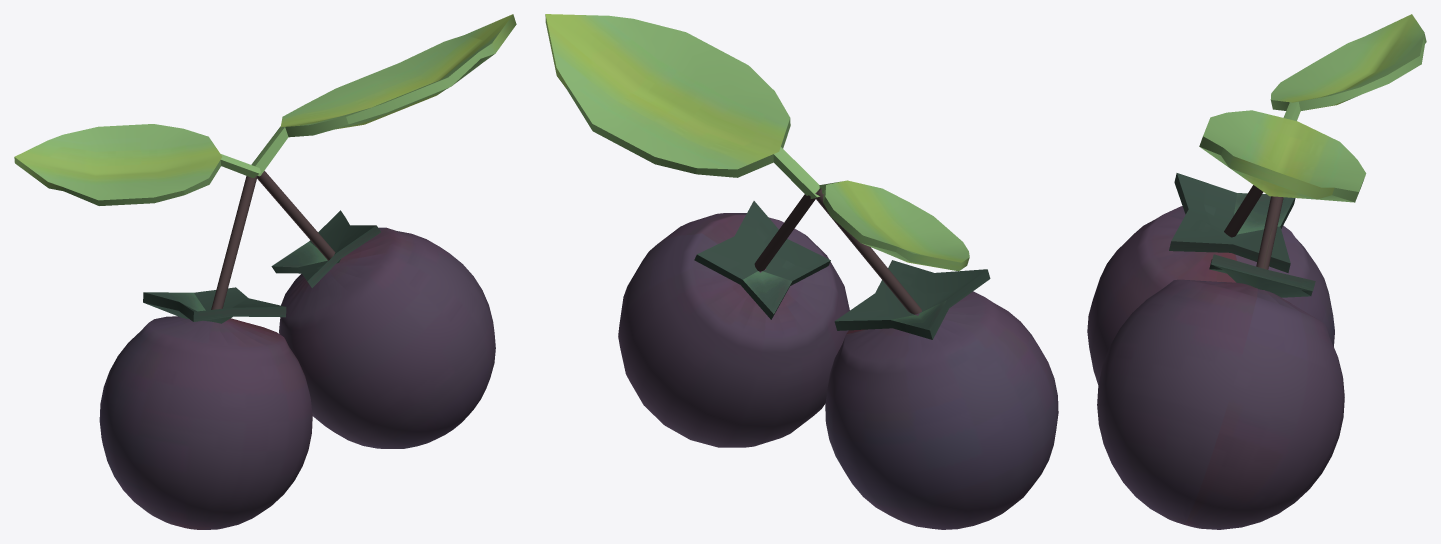
File: berries fbx.FBX
3 views of the same model, side by side, from view 1: azimuth 30°, elevation 25°; view 2: azimuth 150°, elevation 25°; view 3: azimuth 270°, elevation 25° (orthographic). The views are drawn at different scales.
Visible parts, largest first — view 1: pCube3; view 2: pCube3; view 3: pCube3.
Boxes of the visible parts, x1=… form: pCube3: x1=14, y1=14, x2=516, y2=529; pCube3: x1=545, y1=14, x2=1058, y2=529; pCube3: x1=1087, y1=14, x2=1426, y2=529.
Bounding box in the file's own units: 4.76 × 4.15 × 2.74.
1 material, 1 textured.
